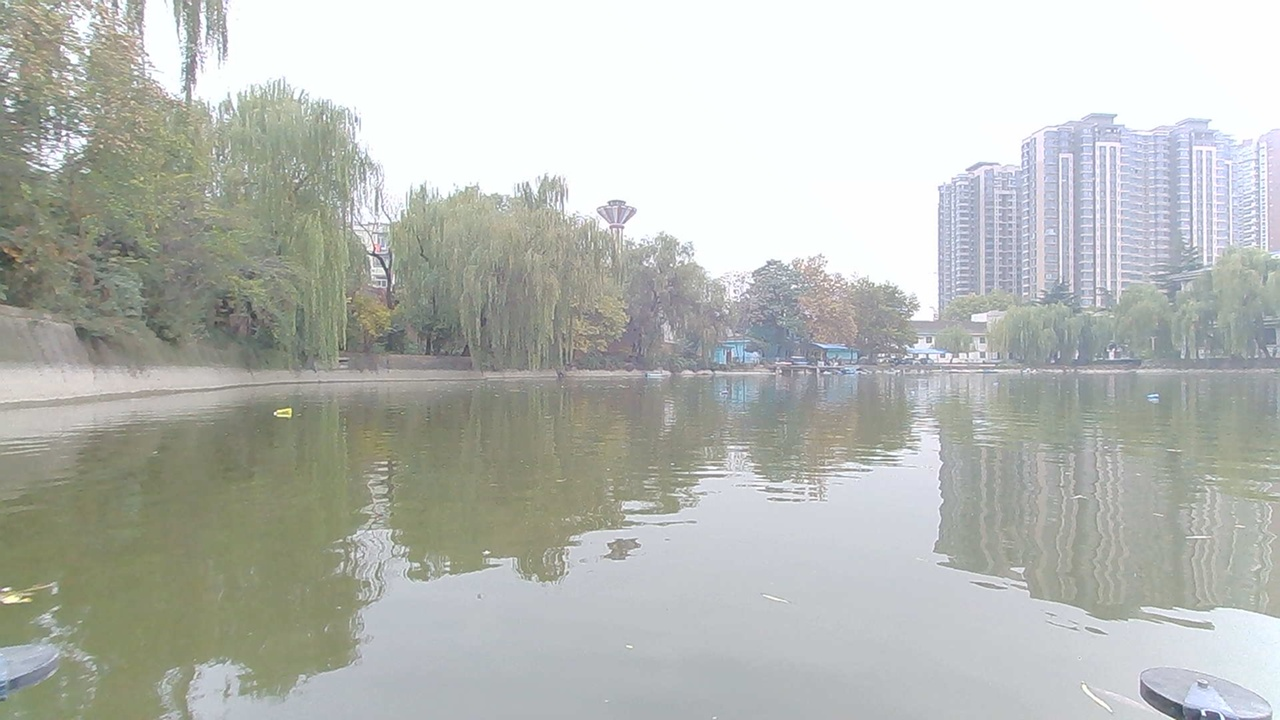bottle: (269, 400, 303, 423), (1142, 387, 1173, 410), (714, 388, 743, 403)
